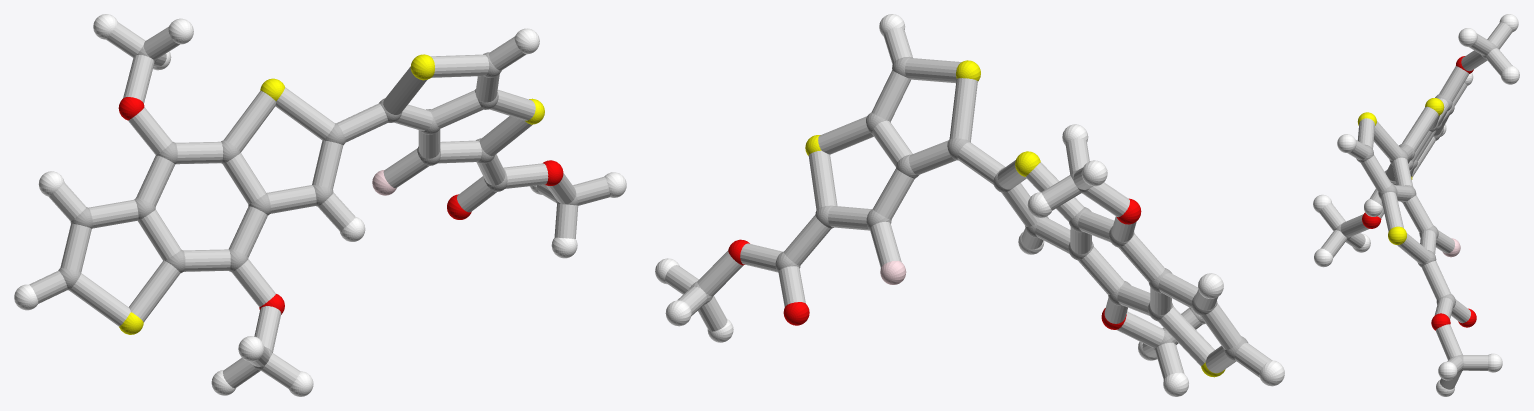
The model's file is color.glb.
The picture shows the model from 3 angles, left to right: view 1: azimuth 30°, elevation 25°; view 2: azimuth 150°, elevation 25°; view 3: azimuth 270°, elevation 25°; orthographic projection. The views are drawn at different scales.
Parts seen in each view (by area): view 1: grp15205, grp8689, grp1, grp7241, grp13395; view 2: grp15205, grp8689, grp1, grp13395, grp7241; view 3: grp15205, grp8689, grp1, grp13395, grp7241.
Part boxes in pixels (x1,y1,x2,y2): grp15205: [29, 22, 610, 388]; grp8689: [14, 14, 626, 396]; grp1: [58, 44, 578, 370]; grp7241: [119, 54, 544, 334]; grp13395: [118, 97, 563, 314]; grp15205: [665, 28, 1271, 379]; grp8689: [655, 14, 1284, 396]; grp1: [689, 56, 1248, 360]; grp13395: [728, 198, 1141, 329]; grp7241: [805, 60, 1225, 377]; grp15205: [1319, 22, 1512, 389]; grp8689: [1313, 14, 1519, 396]; grp1: [1335, 43, 1497, 371]; grp13395: [1362, 56, 1476, 330]; grp7241: [1357, 98, 1444, 244].
Bounding box in the file's own units: 16.48 × 8.08 × 6.46.
